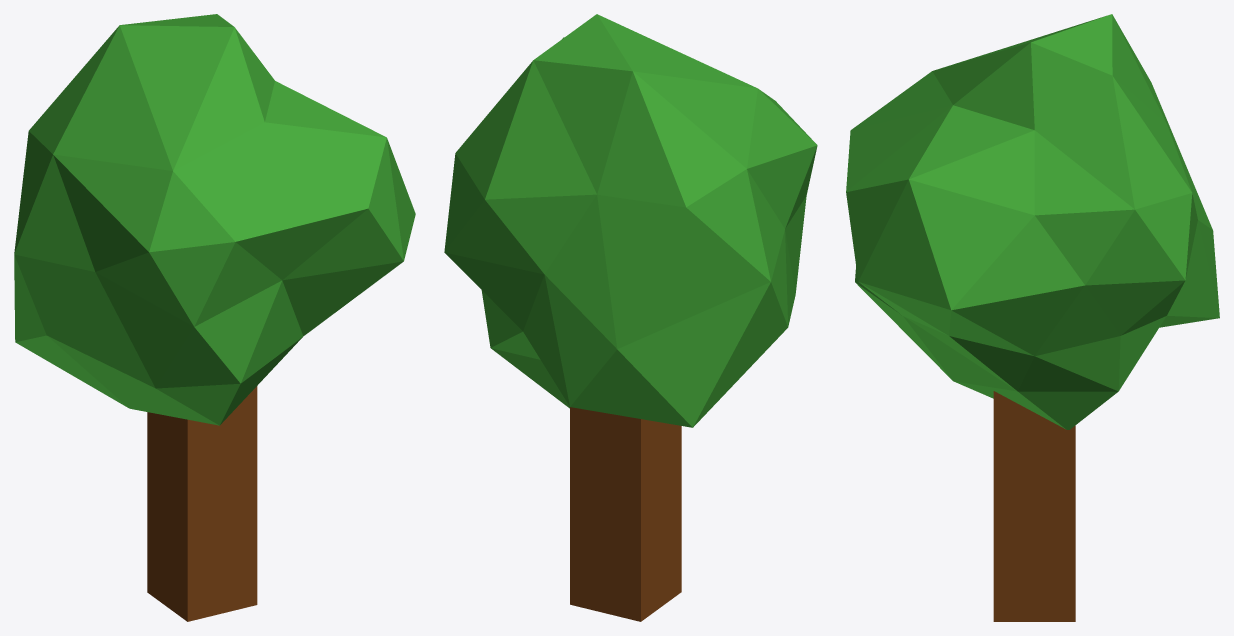
The model's file is drzewo.fbx.
3 views of the same model, side by side, from view 1: azimuth 30°, elevation 25°; view 2: azimuth 150°, elevation 25°; view 3: azimuth 270°, elevation 25° (orthographic). The views are drawn at different scales.
Parts seen in each view (by area): view 1: tree 2; view 2: tree 2; view 3: tree 2.
Boxes of the visible parts, bbox=[...] form: tree 2: bbox=[14, 14, 415, 621]; tree 2: bbox=[444, 14, 817, 621]; tree 2: bbox=[846, 14, 1219, 621].
Size of the model in its own units: 244 by 390 by 229.
